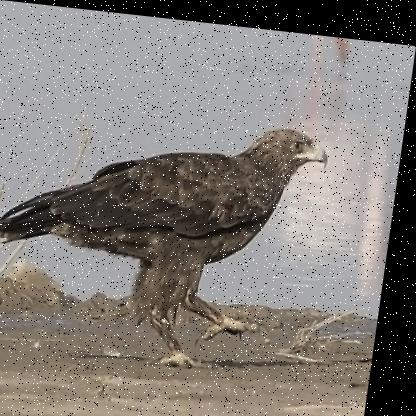Burung: (0, 94, 335, 374)
